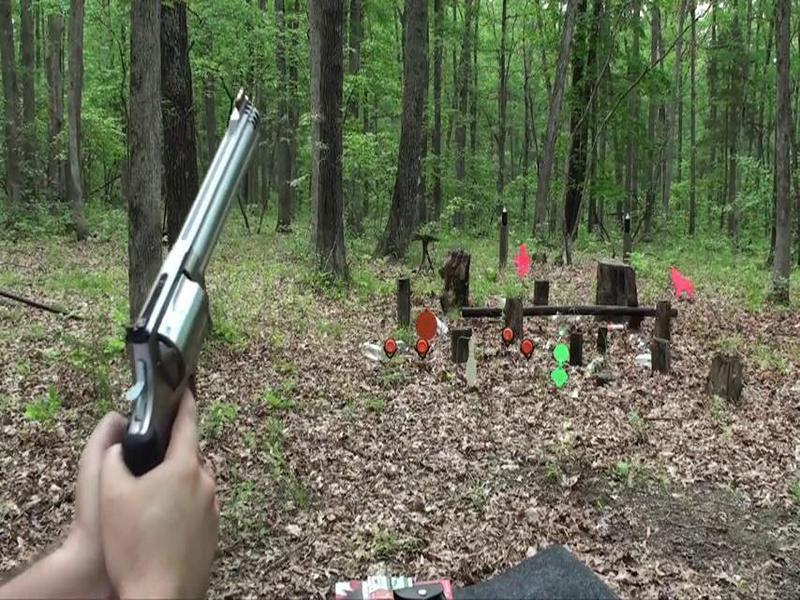Revolver: (137, 75, 280, 489)
